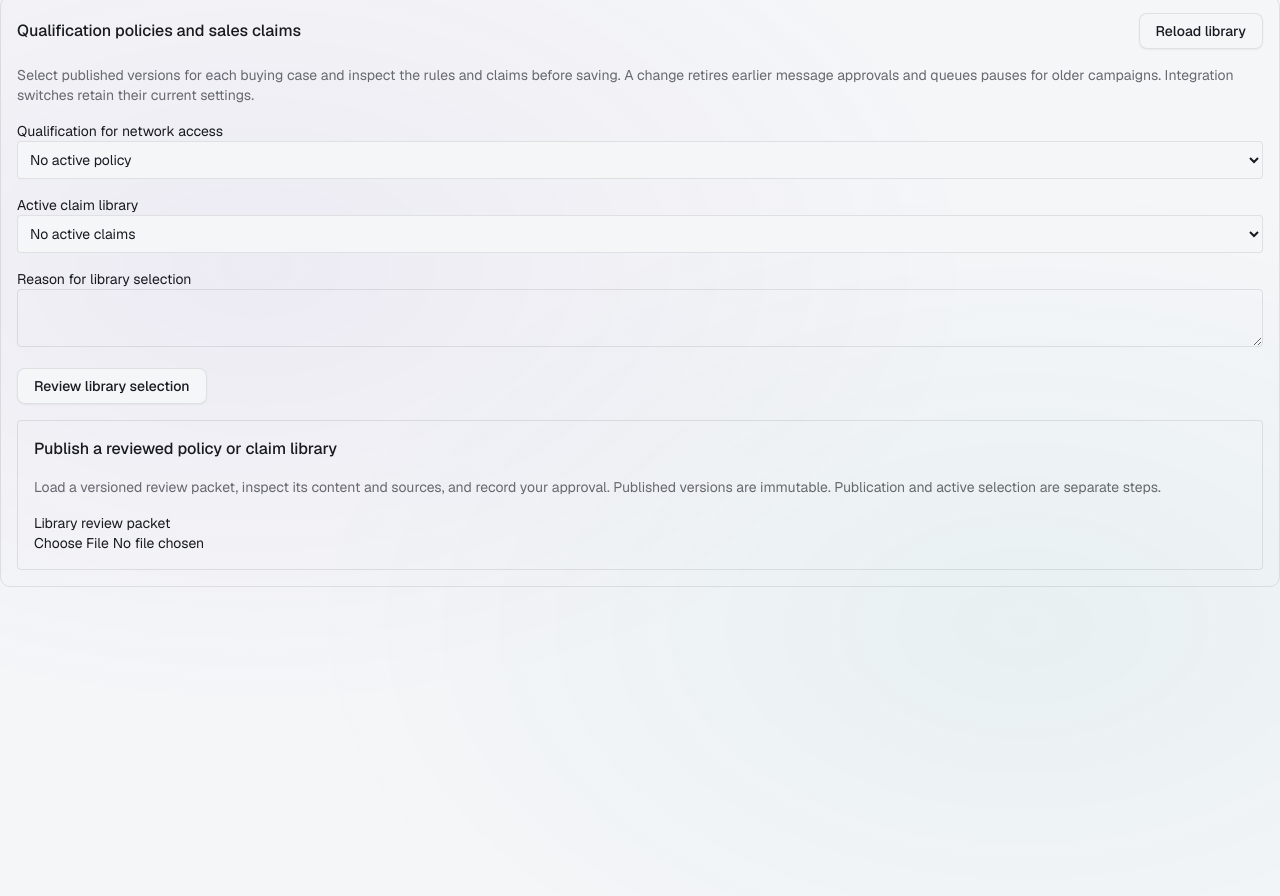
Test case: requires reload after a conflict and does not retry selection
Select "v1" in the dropdown labelled "Qualification for network access": (640,160) [17,141,1263,179]
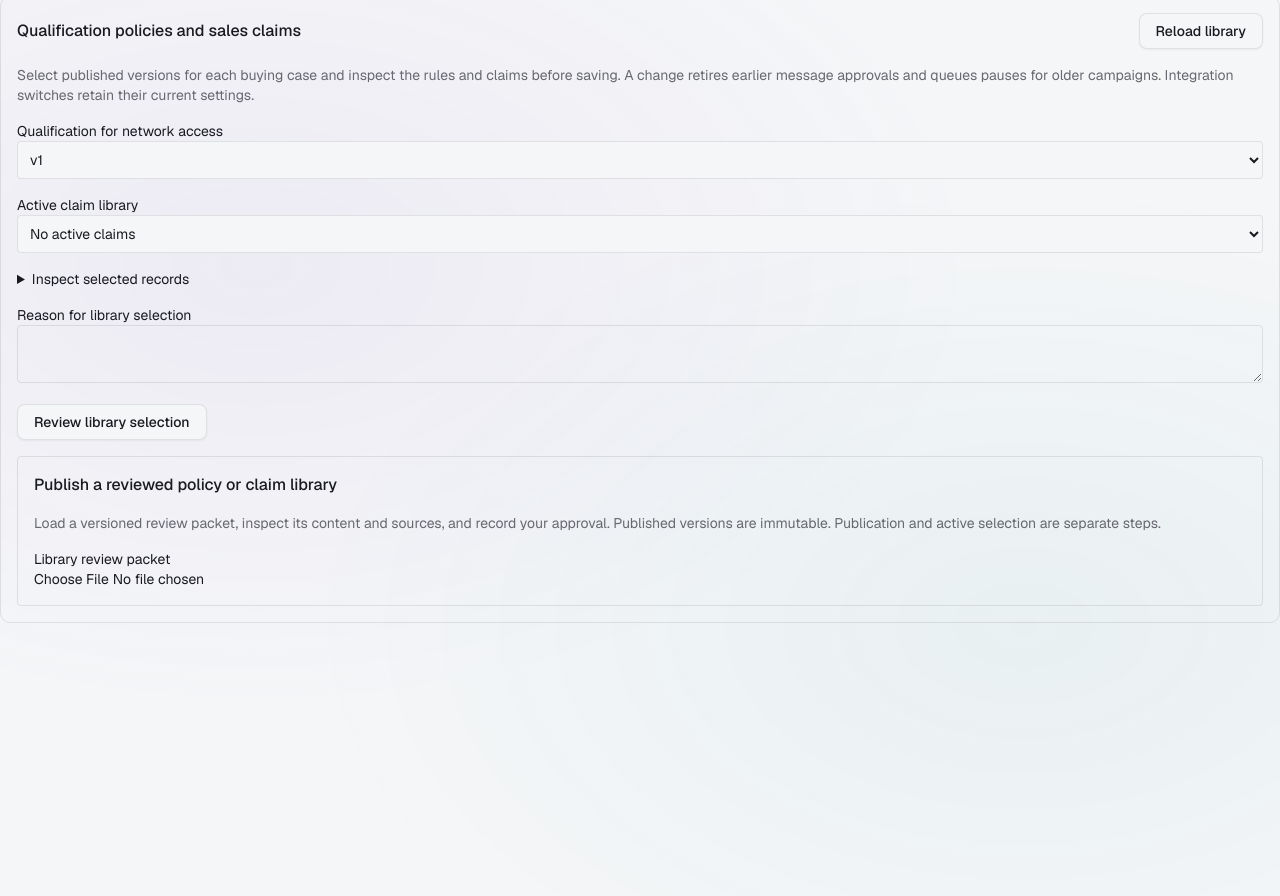
Select "v1" in the dropdown labelled "Active claim library": (640,234) [17,215,1263,253]
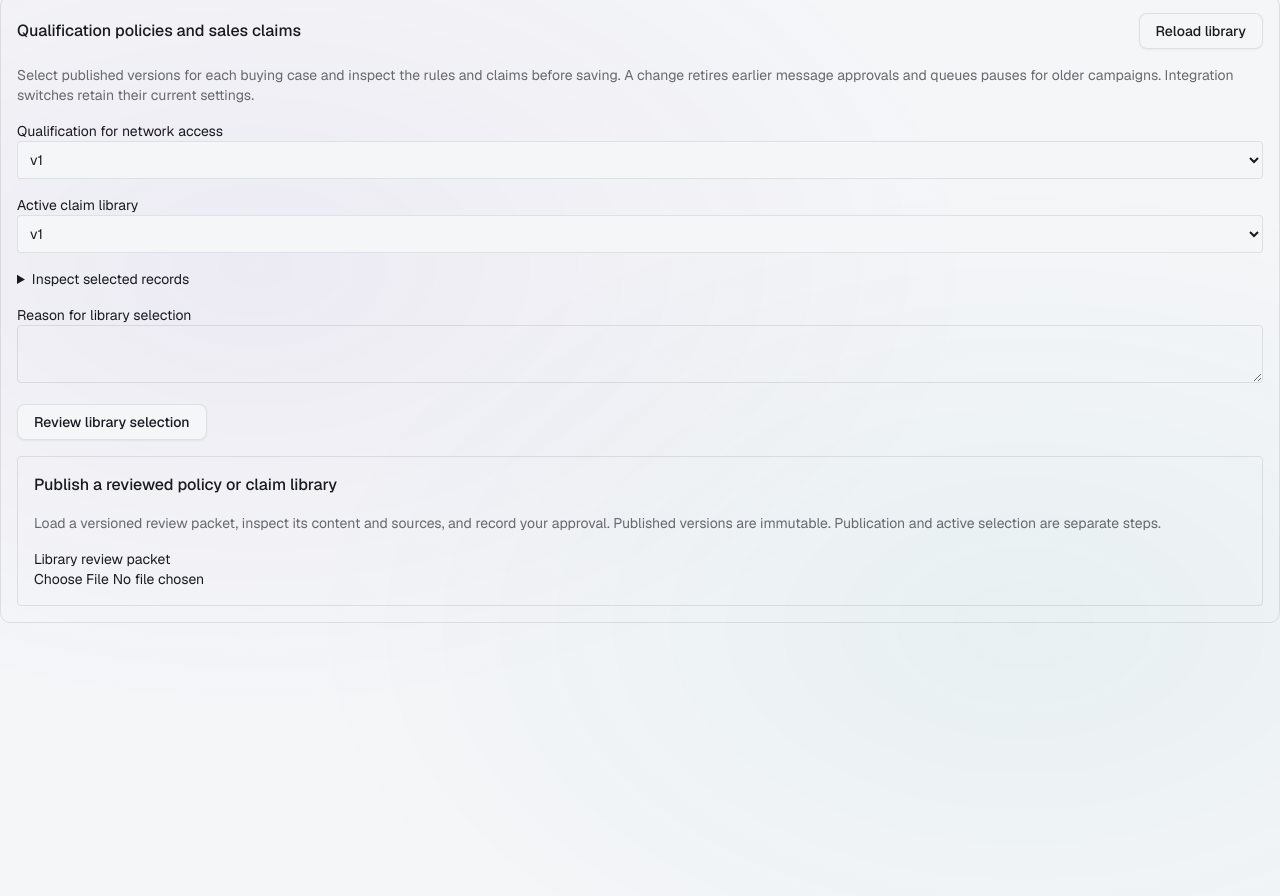
In the text box labelled "Reason for library selection": (640,354) [17,325,1263,383], type "Reviewed pilot rules and claims"
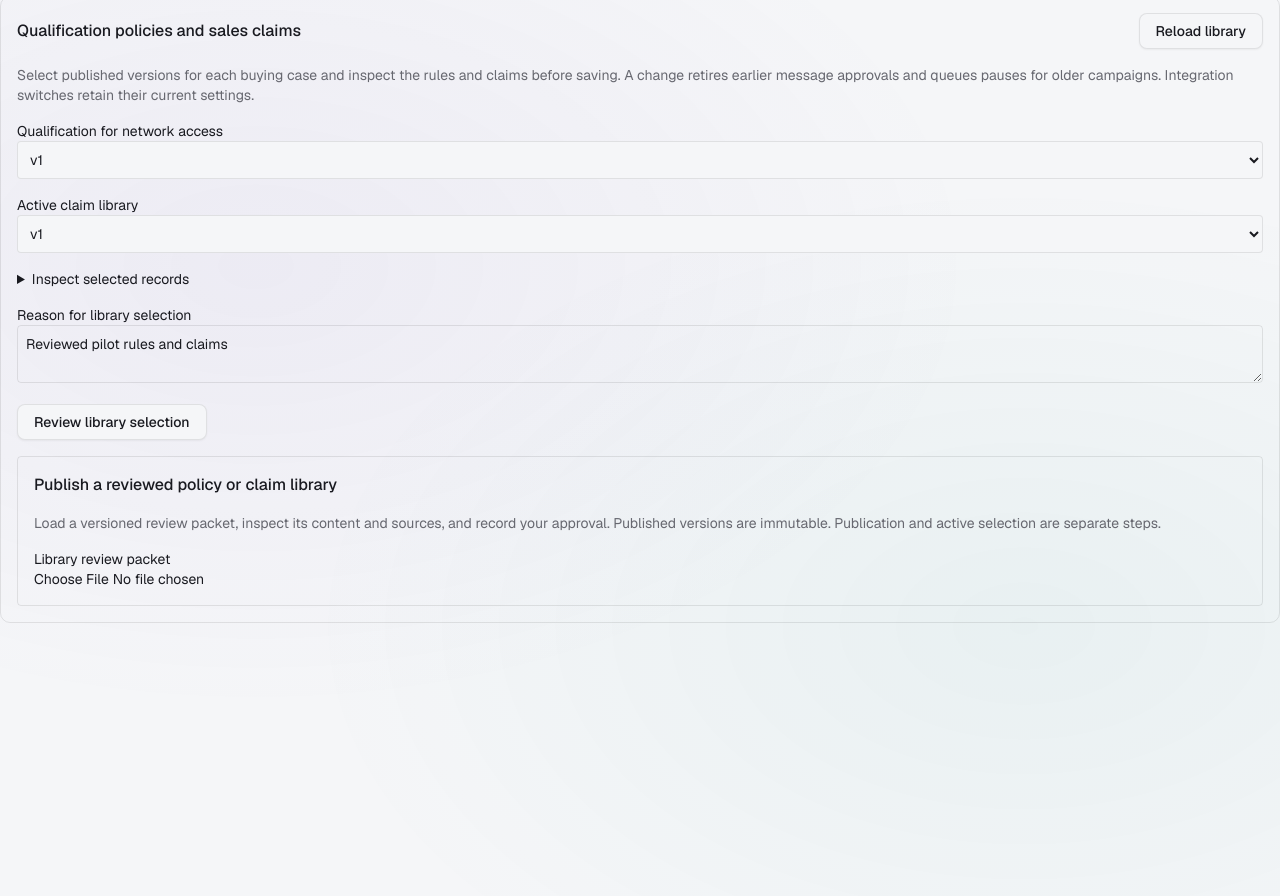
Click the button "Review library selection": (112,422) [17,404,207,440]
(page scrolled)
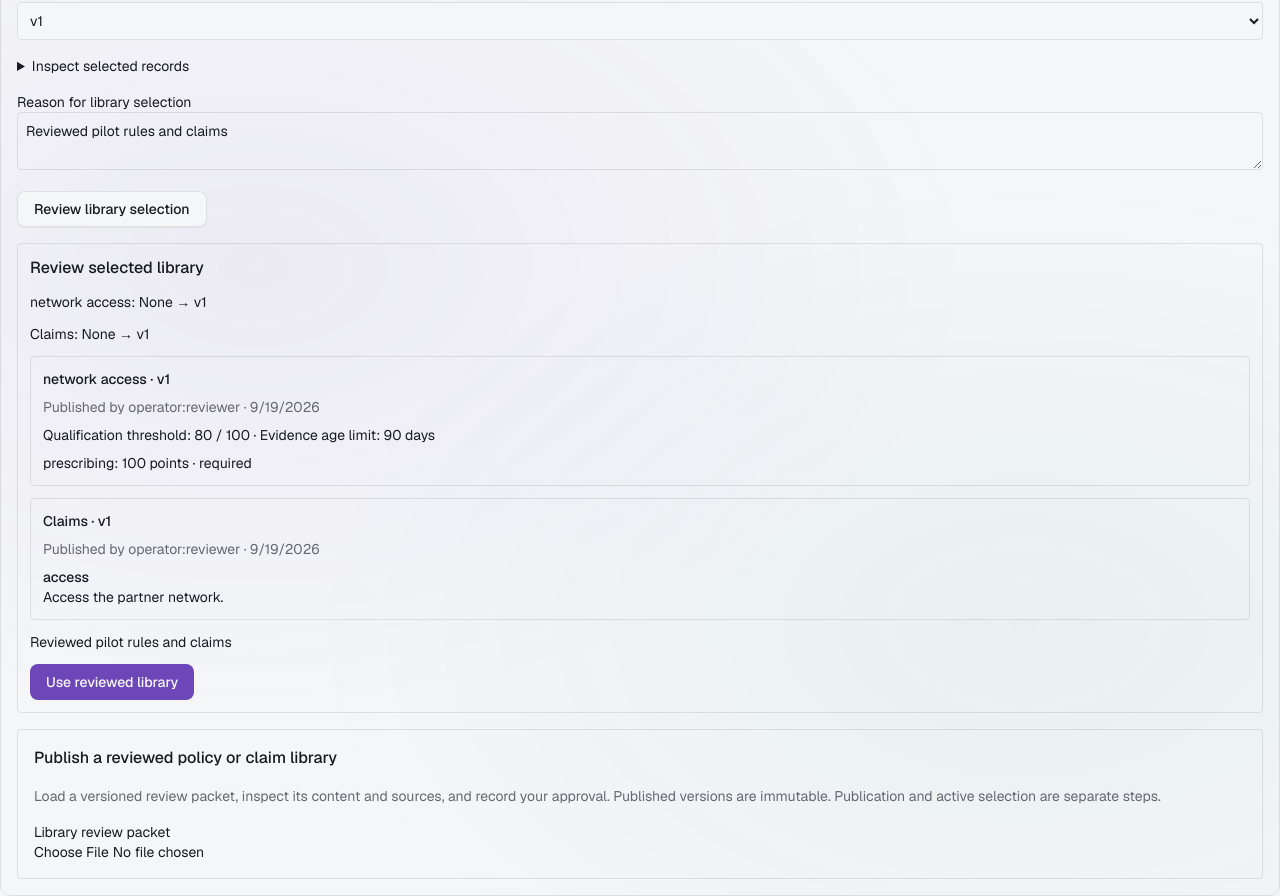
Click the button "Use reviewed library": (112,682) [30,664,194,700]
(page scrolled)
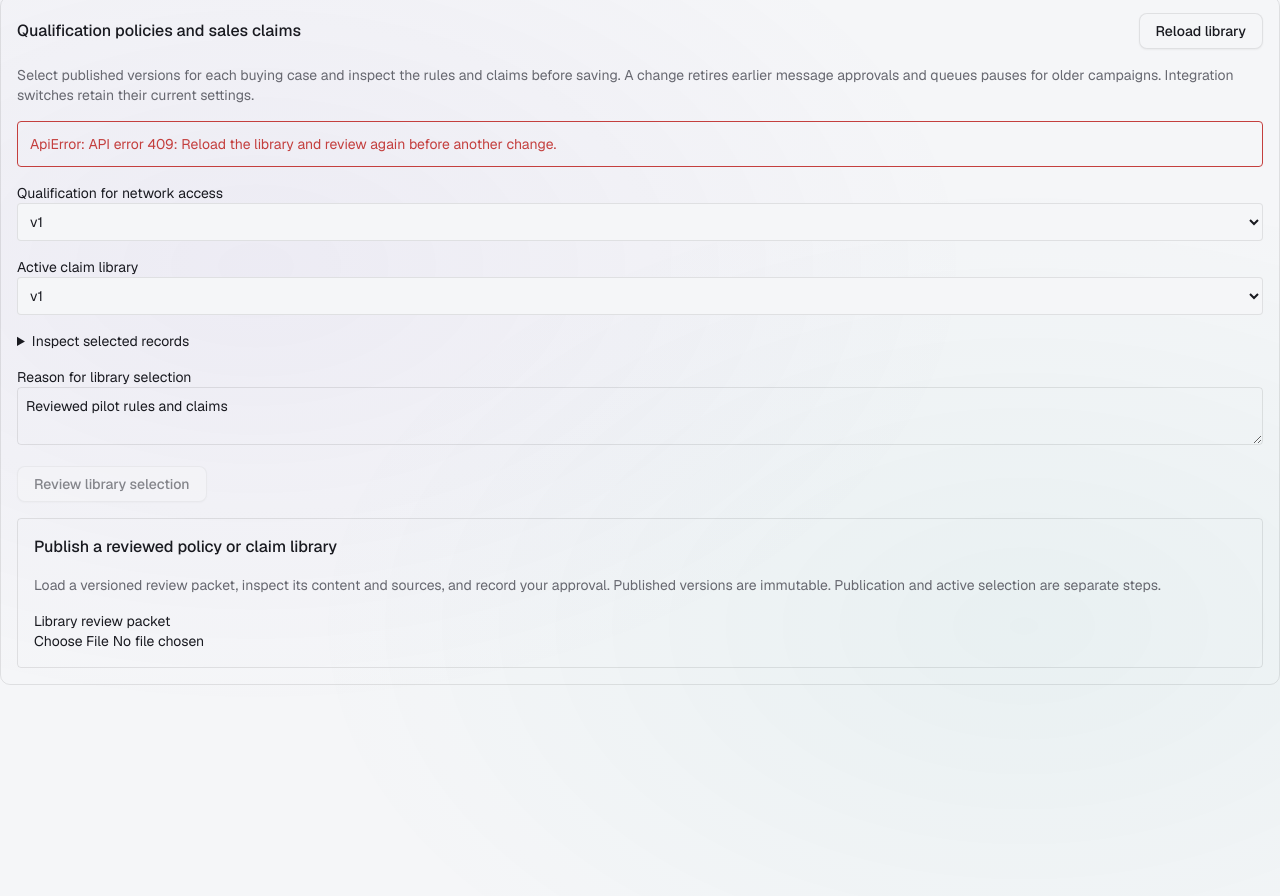
Expected: the message shows "Reload", [30,135,556,153]
Expected: the button "Review library selection" is disabled, [17,466,207,502]
